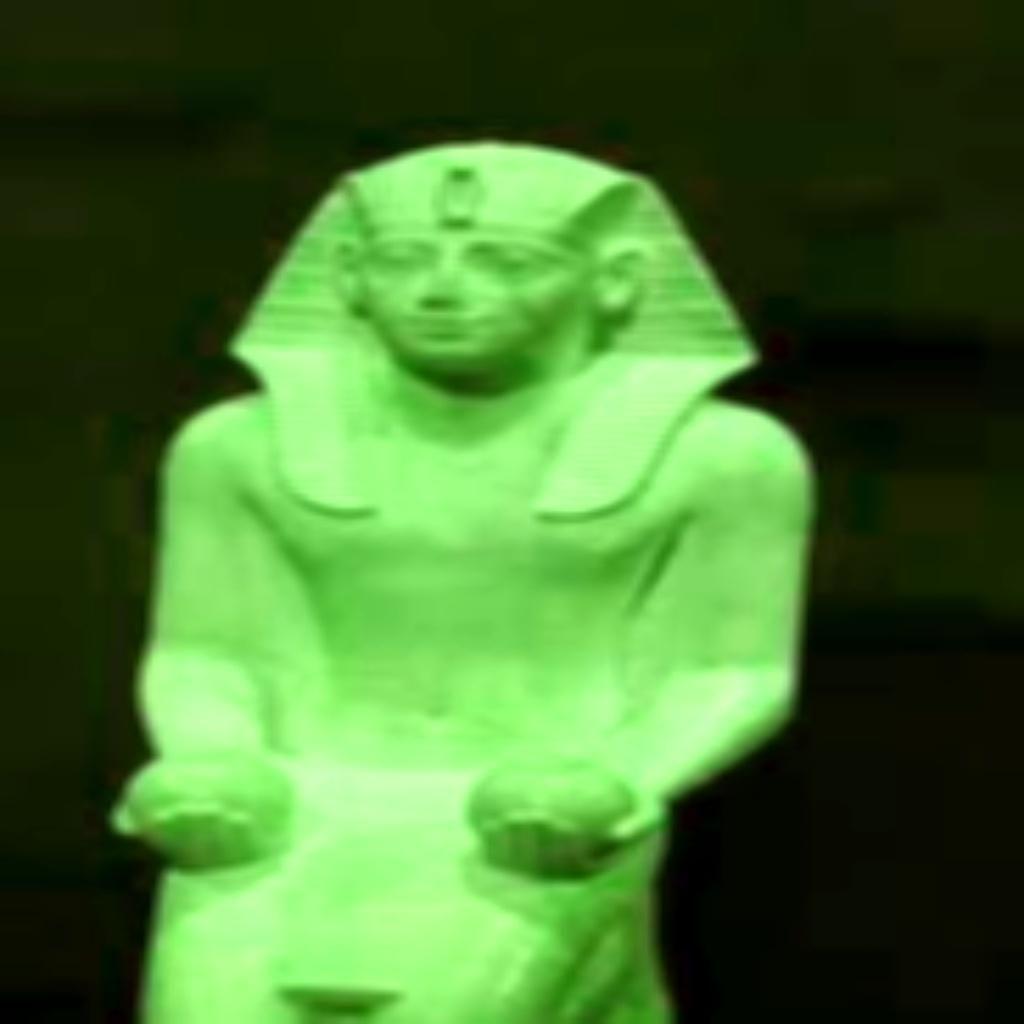King Thutmose III: (106, 134, 817, 1020)
